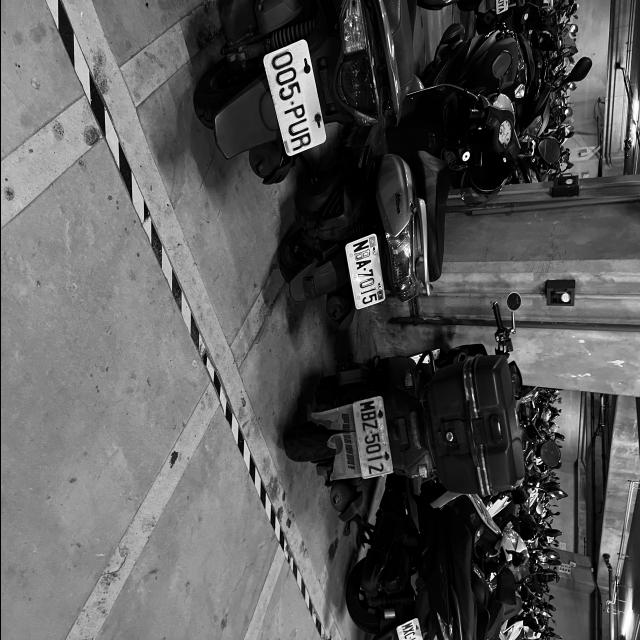-: (289, 99, 295, 106), (362, 267, 366, 272), (368, 430, 372, 434)
0: (273, 63, 299, 88), (269, 49, 295, 73), (364, 442, 381, 455), (358, 277, 374, 290)
1: (359, 286, 375, 296), (366, 454, 383, 463)
2: (367, 461, 384, 475)
5: (276, 79, 302, 104), (361, 292, 377, 306), (363, 432, 379, 445)
7: (357, 268, 373, 280)
A: (354, 258, 371, 271)
B: (353, 248, 370, 262), (360, 409, 376, 422)
C: (402, 631, 415, 640)
M: (358, 400, 375, 413), (400, 621, 413, 632)
N: (351, 238, 369, 253)
P: (282, 103, 306, 124)
R: (290, 131, 312, 153)
U: (285, 117, 309, 139)
X: (401, 626, 414, 636)
Z: (361, 419, 378, 432)
plate: (352, 398, 390, 479), (347, 236, 382, 308)
